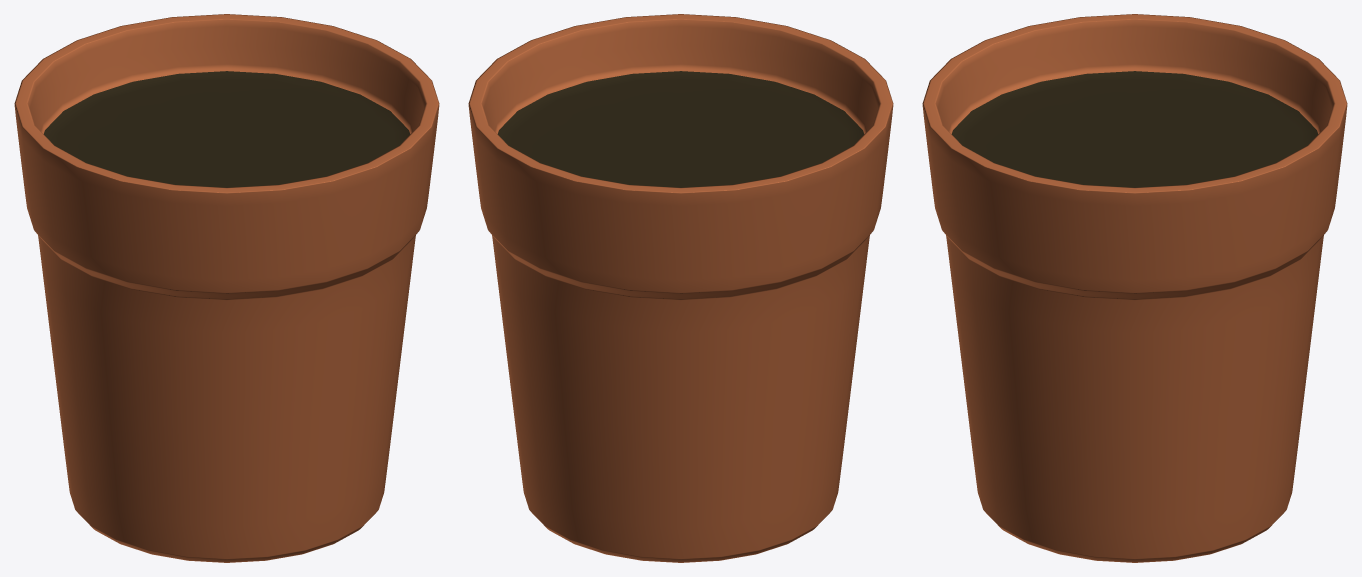
File: Proto_PottedPlant_01.fbx
3 renders of one model, left to right at view 1: azimuth 30°, elevation 25°; view 2: azimuth 150°, elevation 25°; view 3: azimuth 270°, elevation 25°, orthographic.
Parts seen in each view (by area): view 1: PottedPlant_01; view 2: PottedPlant_01; view 3: PottedPlant_01.
Part boxes in pixels (x1,y1,x2,y2): PottedPlant_01: [14, 14, 439, 562]; PottedPlant_01: [468, 14, 893, 562]; PottedPlant_01: [922, 14, 1347, 562].
Size of the model in its own units: 2.02 by 2.09 by 2.02.
